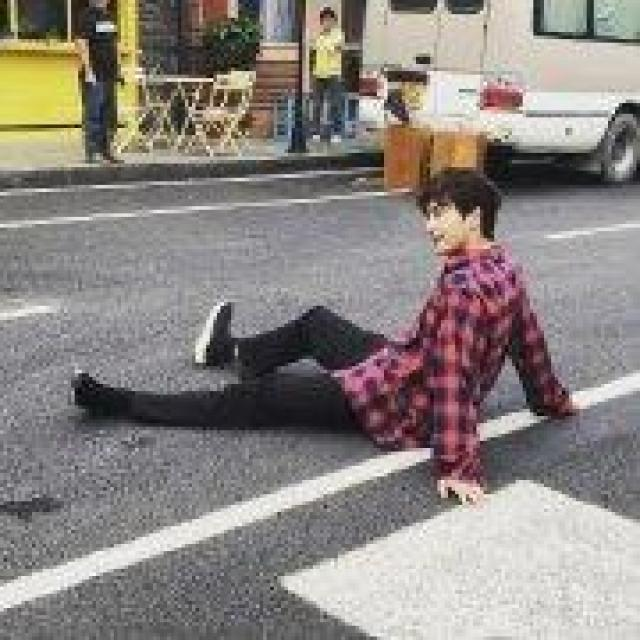fall: (71, 170, 572, 508)
